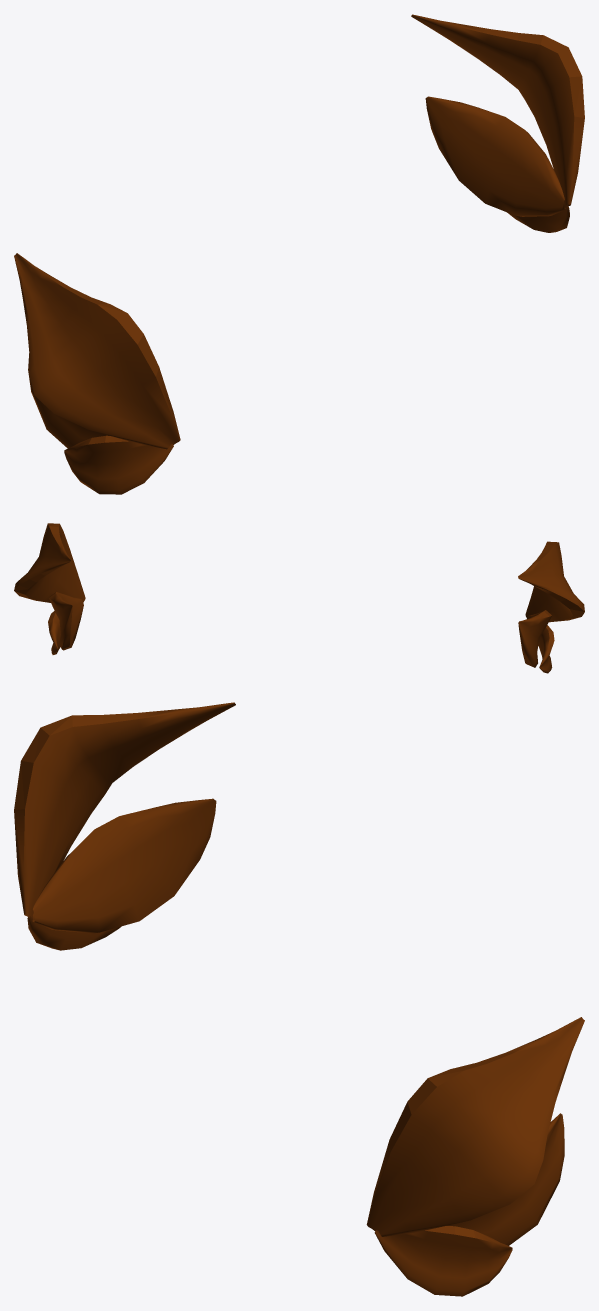
The picture shows the model from 3 angles, top to bottom: view 1: azimuth 30°, elevation 25°; view 2: azimuth 150°, elevation 25°; view 3: azimuth 270°, elevation 25°; orthographic projection. The views are drawn at different scales.
Parts seen in each view (by area): view 1: 285; view 2: 285; view 3: 285.
Boxes of the visible parts, x1=… form: 285: x1=14, y1=14, x2=584, y2=494; 285: x1=14, y1=523, x2=584, y2=673; 285: x1=14, y1=702, x2=584, y2=1296.
Size of the model in its own units: 109 by 64.98 by 29.44.
